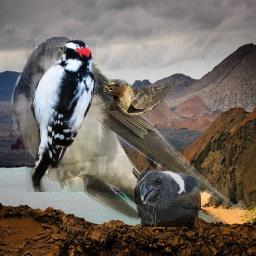Crow: (133, 170, 201, 227)
Swallow: (7, 33, 236, 224), (103, 79, 176, 118)
Woodpecker: (23, 40, 99, 192)
